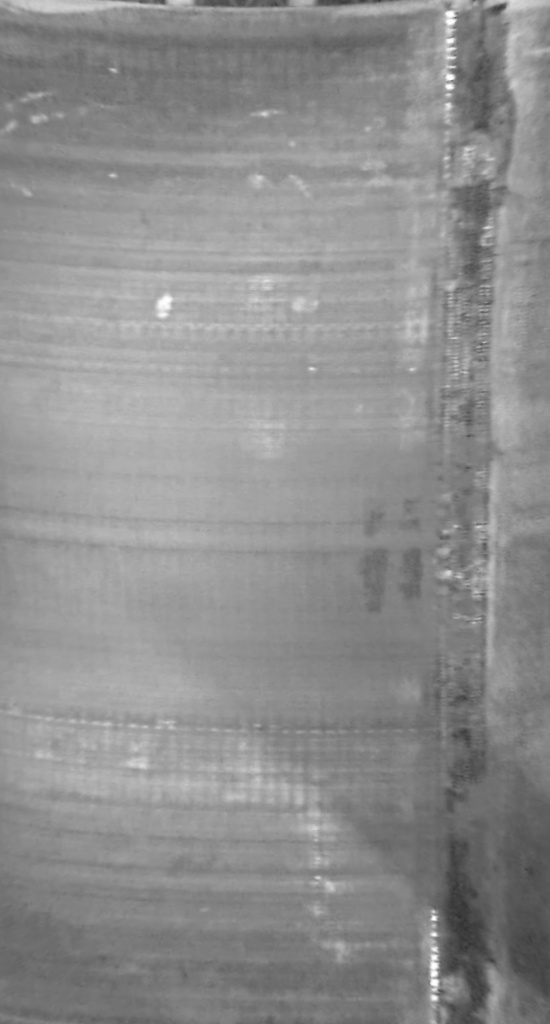splice: (428, 1, 525, 1021)
